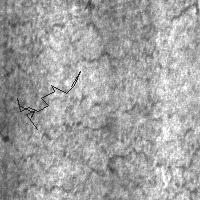crazing: (1, 105, 198, 194), (1, 20, 152, 76), (17, 71, 80, 129)
